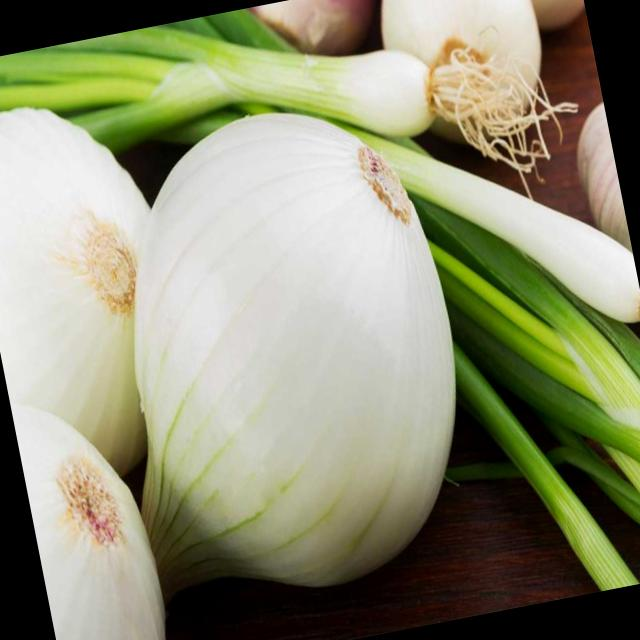onion: (61, 80, 514, 630), (0, 66, 179, 466)
